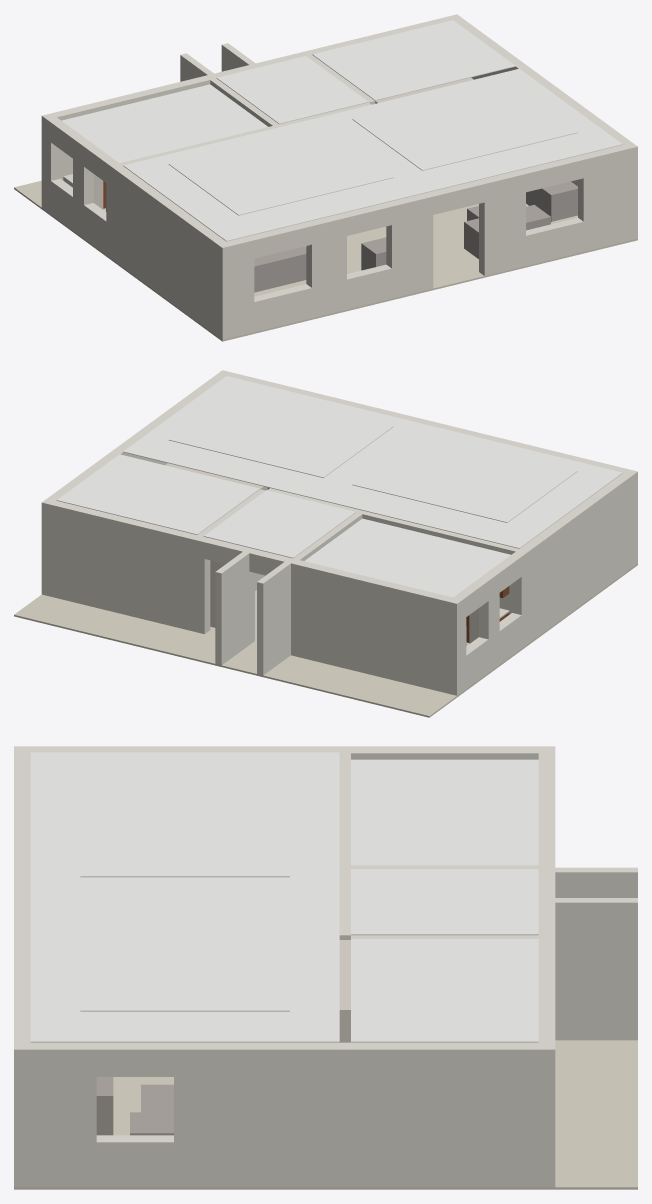
The model's file is existing_model_V01.obj.
3 renders of one model, top to bottom at view 1: azimuth 30°, elevation 25°; view 2: azimuth 150°, elevation 25°; view 3: azimuth 270°, elevation 25°, orthographic. The views are drawn at different scales.
Parts seen in each view (by area): view 1: CEIL-HALL, W-EXT-W_p0, CEIL-HALL-COVE-2, CEIL-HALL-COVE-1, CEIL-ALCOVE, CEIL-KITCHEN, FLOOR, CEIL-ENTRANCE, W-EXT-S_pN, W-EXT-S_p3, W-EXT-S_p2, W-EXT-S_p0 (+24 smaller); view 2: CEIL-HALL, W-EXT-N_p0, W-EXT-N_pN, FLOOR, W-EXT-W_p0, CEIL-HALL-COVE-1, CEIL-HALL-COVE-2, CEIL-ALCOVE, CEIL-KITCHEN, CEIL-ENTRANCE, W-COR-E_pN, W-COR-W_pN (+12 smaller); view 3: W-EXT-E_pN, CEIL-HALL, CEIL-HALL-COVE-1, CEIL-HALL-COVE-2, CEIL-KITCHEN, CEIL-ALCOVE, FLOOR, CEIL-ENTRANCE, W-COR-E_pN, W-EXT-E_p0, W-EXT-E_W-H4_sill, W-EXT-N_pN (+15 smaller).
Boxes of the visible parts, x1,y1,x2,y2 form: CEIL-HALL: (123,68,622,241); W-EXT-W_p0: (106,160,231,339); CEIL-HALL-COVE-2: (352,81,577,170); CEIL-HALL-COVE-1: (168,126,393,215); CEIL-ALCOVE: (312,20,515,100); CEIL-KITCHEN: (62,84,267,163); FLOOR: (14,180,637,341); CEIL-ENTRANCE: (216,56,368,124); W-EXT-S_pN: (578,145,637,251); W-EXT-S_p3: (479,170,525,275); W-EXT-S_p2: (386,192,433,298); W-EXT-S_p0: (217,236,254,339); CEIL-HALL: (123,376,622,548); W-EXT-N_p0: (285,558,462,695); W-EXT-N_pN: (41,498,210,634); FLOOR: (14,564,637,717); W-EXT-W_p0: (512,469,637,648); CEIL-HALL-COVE-1: (352,433,577,522); CEIL-HALL-COVE-2: (169,388,393,477); CEIL-ALCOVE: (56,454,259,534); CEIL-KITCHEN: (304,518,510,597); CEIL-ENTRANCE: (203,490,355,558); W-COR-E_pN: (215,549,254,665); W-COR-W_pN: (257,561,290,675); W-EXT-E_pN: (174,1042,555,1187); CEIL-HALL: (30,752,339,1042); CEIL-HALL-COVE-1: (80,763,289,877); CEIL-HALL-COVE-2: (80,897,289,1011); CEIL-KITCHEN: (351,759,538,865); CEIL-ALCOVE: (351,939,538,1042); FLOOR: (14,1040,637,1189); CEIL-ENTRANCE: (351,869,538,935); W-COR-E_pN: (546,898,637,1040); W-EXT-E_p0: (14,1042,96,1187); W-EXT-E_W-H4_sill: (96,1135,173,1187); W-EXT-N_pN: (538,930,555,1187).
Bounding box in the file's own units: 13 × 3.02 × 11.3.
